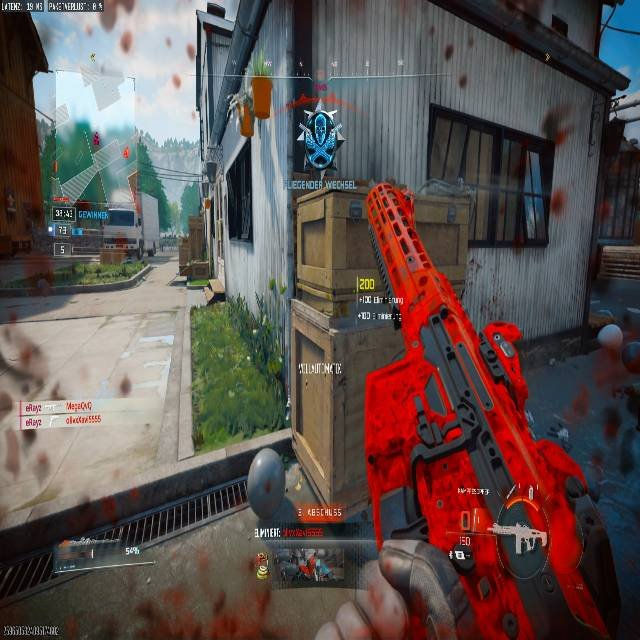player: (286, 98, 344, 182)
